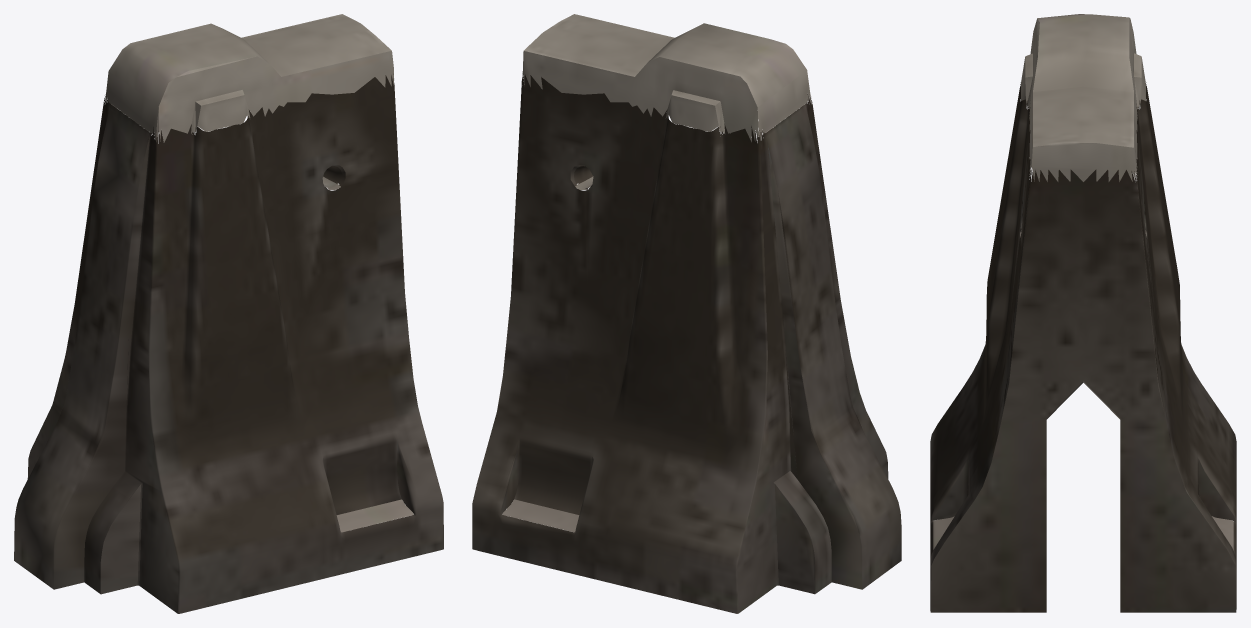
The model's file is stone-wall-e.glb.
3 renders of one model, left to right at view 1: azimuth 30°, elevation 25°; view 2: azimuth 150°, elevation 25°; view 3: azimuth 270°, elevation 25°, orthographic.
Visible parts, largest first — view 1: body; view 2: body; view 3: body.
Part boxes in pixels (x1=…): body: x1=14, y1=14, x2=443, y2=613; body: x1=472, y1=14, x2=901, y2=613; body: x1=930, y1=14, x2=1236, y2=612.
Bounding box in the file's own units: 0.952 × 1.32 × 0.7437.
Materials: 1 (1 with a texture image).
